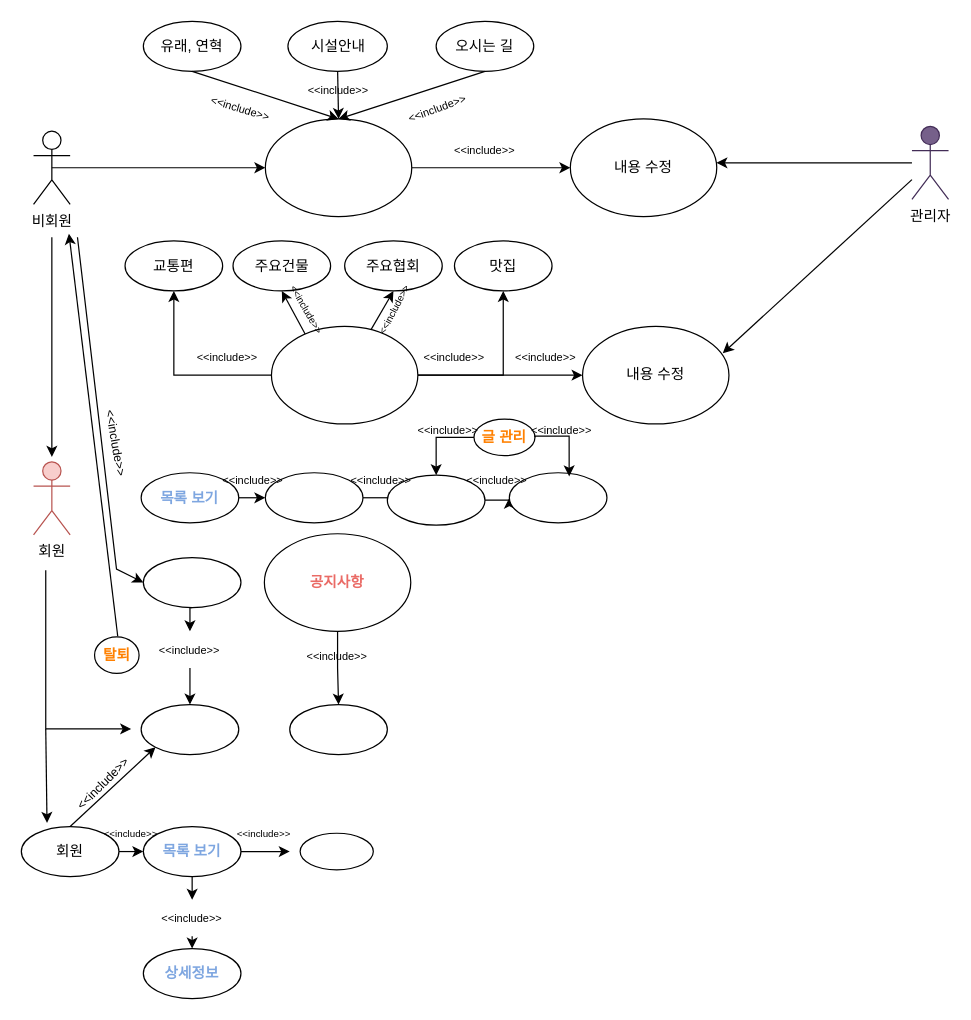
Image size: 971x1020. Some labels were removed from this diagram. The centre of each missing label's shape, as x and y in pixels:
"글 등록" belongs at (435,499).
"글 삭제" belongs at (557,497).
"글 수정" belongs at (313,497).
"로그인" belongs at (189,729).
"상세 보기" belongs at (338,729).
"이용안내" belongs at (344,374).
"지역소개" belongs at (338,167).
"회원 관리" belongs at (336,851).
"회원가입" belongs at (191,582).
